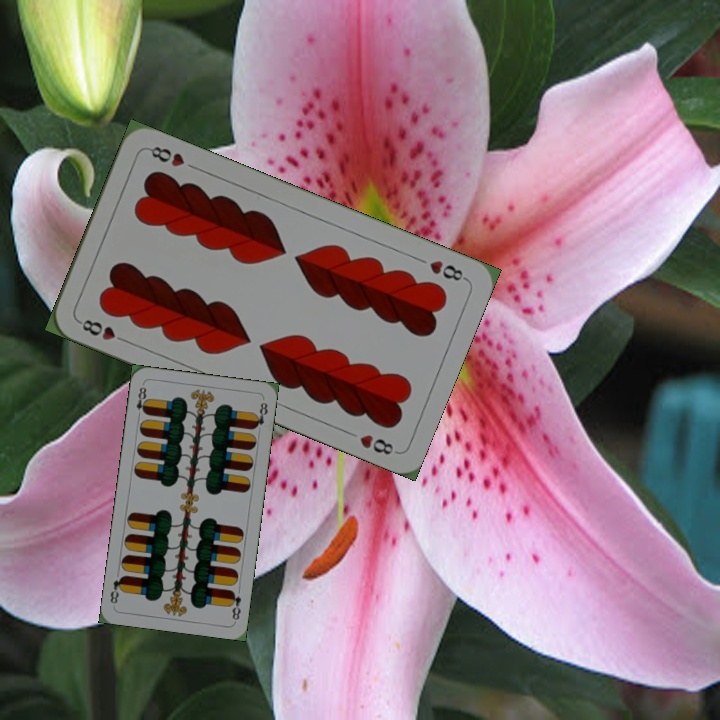E8: (132, 382, 151, 421), (225, 586, 244, 623)
H8: (74, 315, 131, 346), (425, 256, 469, 284)
